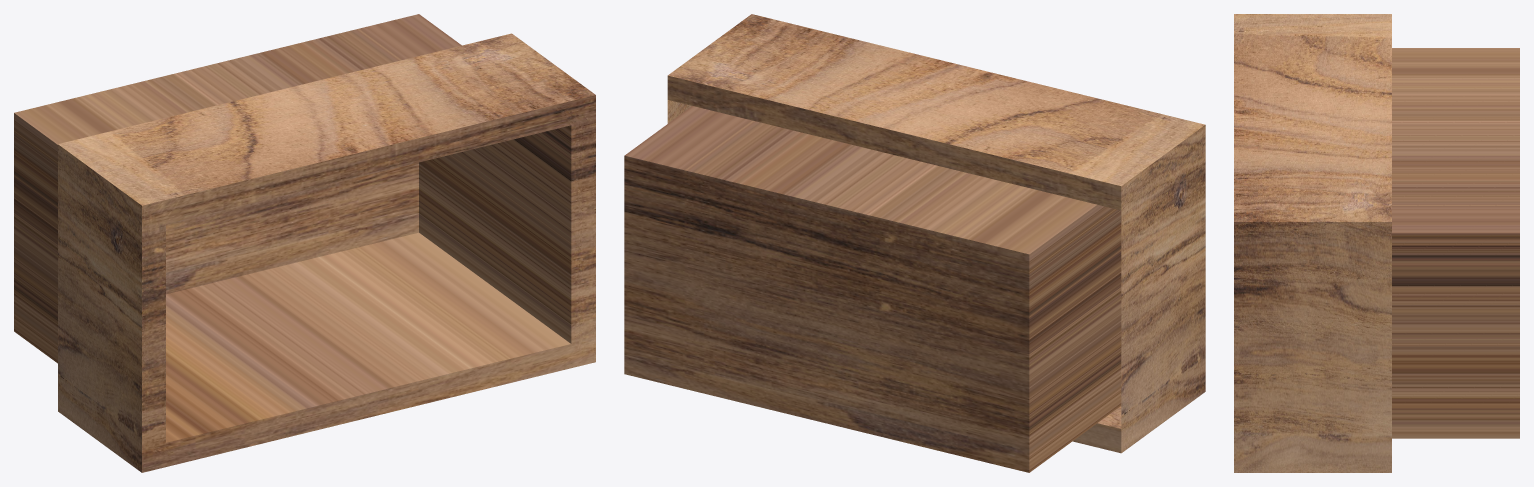
3 renders of one model, left to right at view 1: azimuth 30°, elevation 25°; view 2: azimuth 150°, elevation 25°; view 3: azimuth 270°, elevation 25°, orthographic. The views are drawn at different scales.
Visible parts, largest first — view 1: Cube; view 2: Cube; view 3: Cube.
Part boxes in pixels (<box>): Cube: <box>14,14,595,472</box>; Cube: <box>624,14,1205,472</box>; Cube: <box>1234,14,1519,472</box>.
Bounding box in the file's own units: 32 × 18 × 18.57.
1 material, 1 textured.
